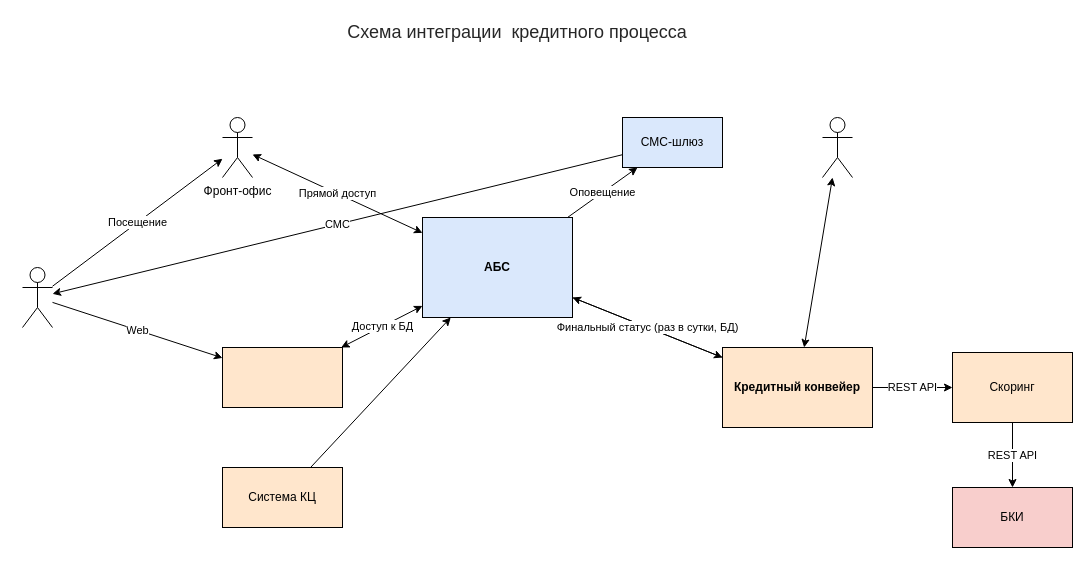
The diagram is 1090 pixels wide and 565 high, and some of its shapes have lost their labels. The centre of each missing label's shape, as x and y in pixels:
"Бэк-офис" belongs at [837,147].
"Интернет-банк" belongs at [282,377].
"Клиент" belongs at [37,297].
